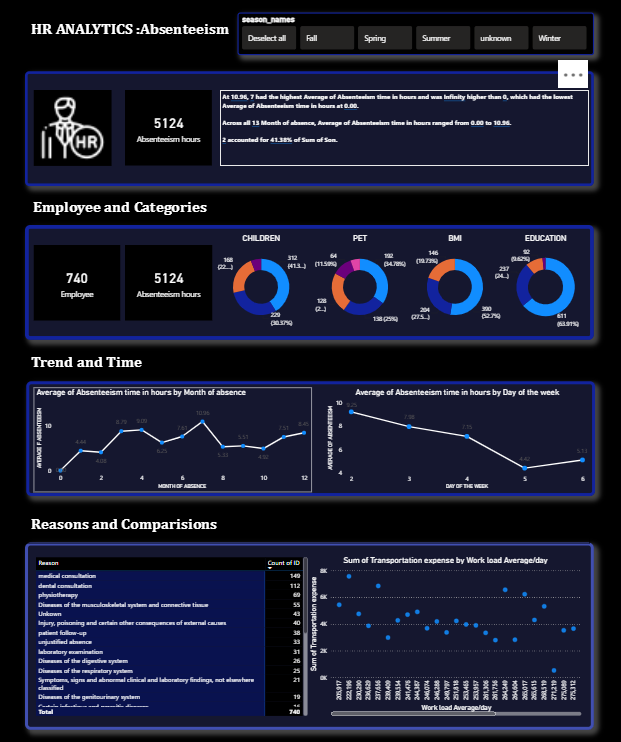

The dashboard page shown, as its layout file describes it:
{"tool":"powerbi","page":{"name":"Page 1","canvas":[1320,1580],"ordinal":0},"visuals":[{"type":"textbox","box":[53.3,38.3,450,66.7],"z":0},{"type":"textbox","box":[54.1,477,1204.7,243.4],"z":1000},{"type":"textbox","box":[55,808.3,1205,243.3],"z":2000},{"type":"textbox","box":[53.3,1150,1205,396.7],"z":3000},{"type":"textbox","box":[53.3,150,1205,243.3],"z":4000},{"type":"donutChart","title":"EDUCATION","fields":{"Category":["Query1.Education"],"Y":["Sum(Query1.Education)"]},"box":[1043.7,495.4,225,206.5],"z":5000},{"type":"donutChart","title":"BMI","fields":{"Category":["Query1.BMI_Category"],"Y":["CountNonNull(Query1.BMI_Category)"]},"box":[861.7,495.4,206.5,206.5],"z":6000},{"type":"donutChart","title":"PET","fields":{"Y":["Sum(Query1.pet)"],"Category":["Query1.pet"]},"box":[660.1,495.4,206.5,206.5],"z":7000},{"type":"donutChart","title":"CHILDREN","fields":{"Category":["Query1.Son"],"Y":["Sum(Query1.Son)"]},"box":[449.9,495.4,206.5,206.5],"z":8000},{"type":"card","fields":{"Values":["CountNonNull(Query1.ID)"]},"box":[71.7,518.3,183.3,160],"z":9000},{"type":"card","fields":{"Values":["Sum(Query1.Absenteeism time in hours)"]},"box":[265,518.3,185,160],"z":10000},{"type":"textbox","box":[63.9,414.3,1194.9,62.7],"z":11000},{"type":"textbox","box":[52.9,1084.2,1196.1,66.4],"z":12000},{"type":"textbox","box":[52.9,740,1207.2,62.7],"z":13000},{"type":"advancedSlicerVisual","fields":{"Values":["Query1.season_names"]},"box":[503.3,26.7,755,90],"z":14000},{"type":"lineChart","fields":{"Y":["Avg(Query1.Absenteeism time in hours)"],"Category":["Query1.Day of the week"]},"box":[687.2,821.2,560.6,221.3],"z":15000},{"type":"lineChart","fields":{"Y":["Avg(Query1.Absenteeism time in hours)"],"Category":["Query1.Month of absence"]},"box":[72.5,821.2,588.8,221.3],"z":16000},{"type":"card","fields":{"Values":["Sum(Query1.Absenteeism time in hours)"]},"box":[265.5,191.8,184.4,159.8],"z":17000},{"type":"textbox","box":[465.9,191.8,781.8,159.8],"z":18000},{"type":"scatterChart","fields":{"X":["Query1.Work load Average/day"],"Y":["Sum(Query1.Transportation expense)"]},"box":[651.5,1176.4,585.1,345.4],"z":19000},{"type":"pivotTable","fields":{"Rows":["Query1.Reason"],"Values":["CountNonNull(Query1.ID)"]},"box":[72.5,1176.4,585.1,345.4],"z":20000},{"type":"image","box":[71.3,191.8,164.7,161],"z":20001}]}

Visuals, with their boxes in screenshot pixels (x1, y1, x2, y2), scaled from the page's 1320x1580 canvas onto the 621x742 screenshot:
textbox: (x1=25, y1=18, x2=237, y2=49)
textbox: (x1=25, y1=224, x2=592, y2=338)
textbox: (x1=26, y1=380, x2=593, y2=494)
textbox: (x1=25, y1=540, x2=592, y2=726)
textbox: (x1=25, y1=70, x2=592, y2=185)
"EDUCATION" donutChart: (x1=491, y1=233, x2=597, y2=330)
"BMI" donutChart: (x1=405, y1=233, x2=503, y2=330)
"PET" donutChart: (x1=311, y1=233, x2=408, y2=330)
"CHILDREN" donutChart: (x1=212, y1=233, x2=309, y2=330)
card - CountNonNull(Query1.ID): (x1=34, y1=243, x2=120, y2=319)
card - Sum(Query1.Absenteeism time in hours): (x1=125, y1=243, x2=212, y2=319)
textbox: (x1=30, y1=195, x2=592, y2=224)
textbox: (x1=25, y1=509, x2=588, y2=540)
textbox: (x1=25, y1=348, x2=593, y2=377)
advancedSlicerVisual - Query1.season_names: (x1=237, y1=13, x2=592, y2=55)
lineChart - Avg(Query1.Absenteeism time in hours) x Query1.Day of the week: (x1=323, y1=386, x2=587, y2=490)
lineChart - Avg(Query1.Absenteeism time in hours) x Query1.Month of absence: (x1=34, y1=386, x2=311, y2=490)
card - Sum(Query1.Absenteeism time in hours): (x1=125, y1=90, x2=212, y2=165)
textbox: (x1=219, y1=90, x2=587, y2=165)
scatterChart - Query1.Work load Average/day x Sum(Query1.Transportation expense): (x1=307, y1=552, x2=582, y2=715)
pivotTable - Query1.Reason x CountNonNull(Query1.ID): (x1=34, y1=552, x2=309, y2=715)
image: (x1=34, y1=90, x2=111, y2=166)
